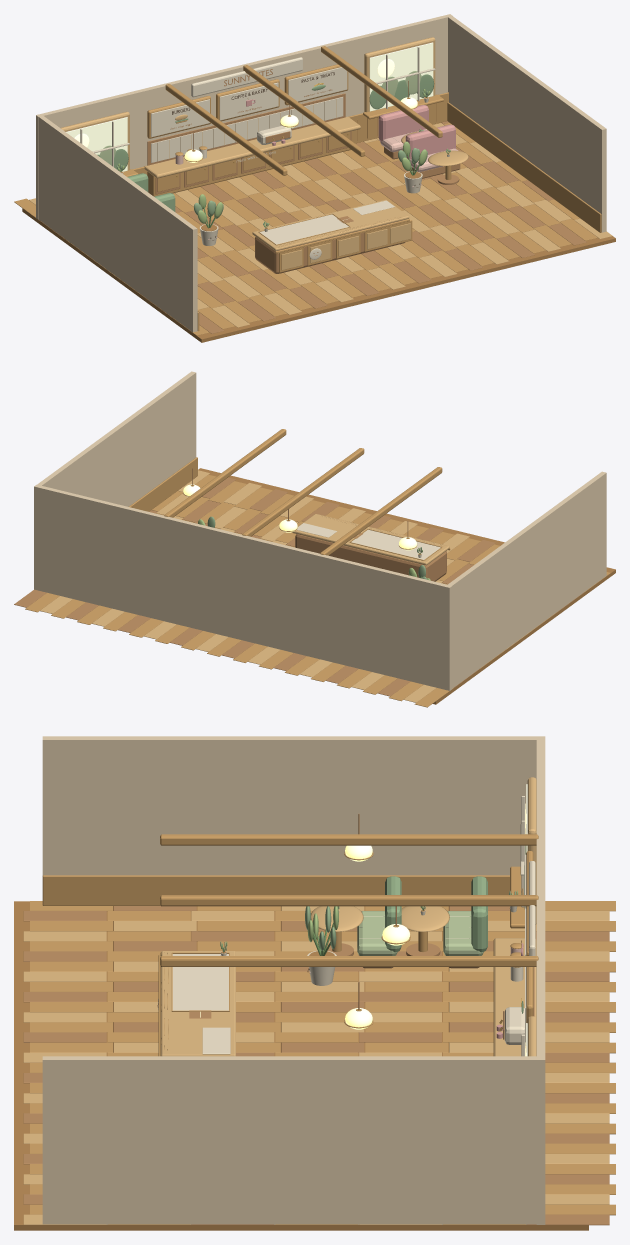
File: restaurant-cozy-interior.glb
3 renders of one model, top to bottom at view 1: azimuth 30°, elevation 25°; view 2: azimuth 150°, elevation 25°; view 3: azimuth 270°, elevation 25°, orthographic. The views are drawn at different scales.
Visible parts, largest first — view 1: cozy_interior_4, cozy_interior_1, cozy_interior_3, cozy_interior_2, cozy_interior_9, cozy_interior_0, cozy_interior_5, cozy_interior_14, cozy_interior_7, cozy_interior_11, cozy_interior_13, cozy_interior_8 (+1 smaller); view 2: cozy_interior_4, cozy_interior_1, cozy_interior_2, cozy_interior_3, cozy_interior_0, cozy_interior_9, cozy_interior_17; view 3: cozy_interior_4, cozy_interior_1, cozy_interior_3, cozy_interior_2, cozy_interior_0, cozy_interior_9, cozy_interior_8, cozy_interior_7, cozy_interior_17.
Part boxes in pixels (left/top/right/bottom): cozy_interior_4: left=36, top=14, right=606, bottom=332; cozy_interior_1: left=14, top=46, right=601, bottom=335; cozy_interior_3: left=29, top=37, right=612, bottom=327; cozy_interior_2: left=40, top=69, right=586, bottom=333; cozy_interior_9: left=80, top=46, right=449, bottom=259; cozy_interior_0: left=22, top=97, right=615, bottom=342; cozy_interior_5: left=66, top=42, right=433, bottom=171; cozy_interior_14: left=246, top=99, right=455, bottom=159; cozy_interior_7: left=97, top=74, right=450, bottom=225; cozy_interior_11: left=118, top=89, right=450, bottom=227; cozy_interior_13: left=175, top=129, right=458, bottom=240; cozy_interior_8: left=100, top=71, right=421, bottom=165; cozy_interior_4: left=34, top=371, right=606, bottom=690; cozy_interior_1: left=25, top=429, right=610, bottom=707; cozy_interior_2: left=14, top=468, right=584, bottom=696; cozy_interior_3: left=40, top=470, right=531, bottom=702; cozy_interior_0: left=198, top=468, right=615, bottom=704; cozy_interior_9: left=297, top=523, right=440, bottom=559; cozy_interior_17: left=183, top=484, right=416, bottom=550; cozy_interior_4: left=42, top=736, right=545, bottom=1224; cozy_interior_1: left=30, top=834, right=615, bottom=1224; cozy_interior_3: left=23, top=777, right=609, bottom=1224; cozy_interior_2: left=23, top=813, right=609, bottom=1225; cozy_interior_0: left=14, top=901, right=588, bottom=1230; cozy_interior_9: left=158, top=796, right=535, bottom=1056; cozy_interior_8: left=357, top=845, right=525, bottom=955; cozy_interior_7: left=220, top=876, right=524, bottom=1013; cozy_interior_17: left=200, top=845, right=409, bottom=1029.
Size of the model in its own units: 16 by 3.98 by 12.57.
